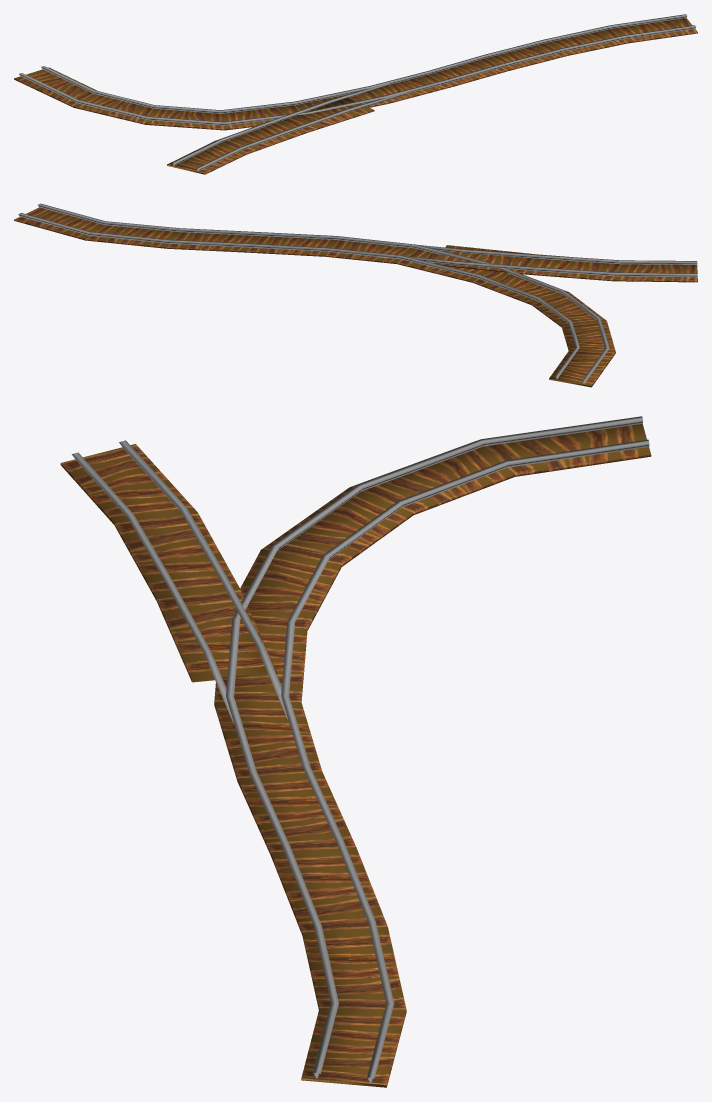
File: SWORDLIGHT20_MAIN1RAILS1E.fbx
3 renders of one model, top to bottom at view 1: azimuth 30°, elevation 25°; view 2: azimuth 150°, elevation 25°; view 3: azimuth 270°, elevation 25°, orthographic. The views are drawn at different scales.
Visible parts, largest first — view 1: SWORDLIGHT20_MAIN1RAILS1E; view 2: SWORDLIGHT20_MAIN1RAILS1E; view 3: SWORDLIGHT20_MAIN1RAILS1E.
Boxes of the visible parts, x1,y1,x2,y2 form: SWORDLIGHT20_MAIN1RAILS1E: (14,14,697,174); SWORDLIGHT20_MAIN1RAILS1E: (14,203,697,387); SWORDLIGHT20_MAIN1RAILS1E: (60,416,651,1087).
Size of the model in its own units: 261274 by 17380 by 110133.
Materials: 2 (2 with a texture image).
